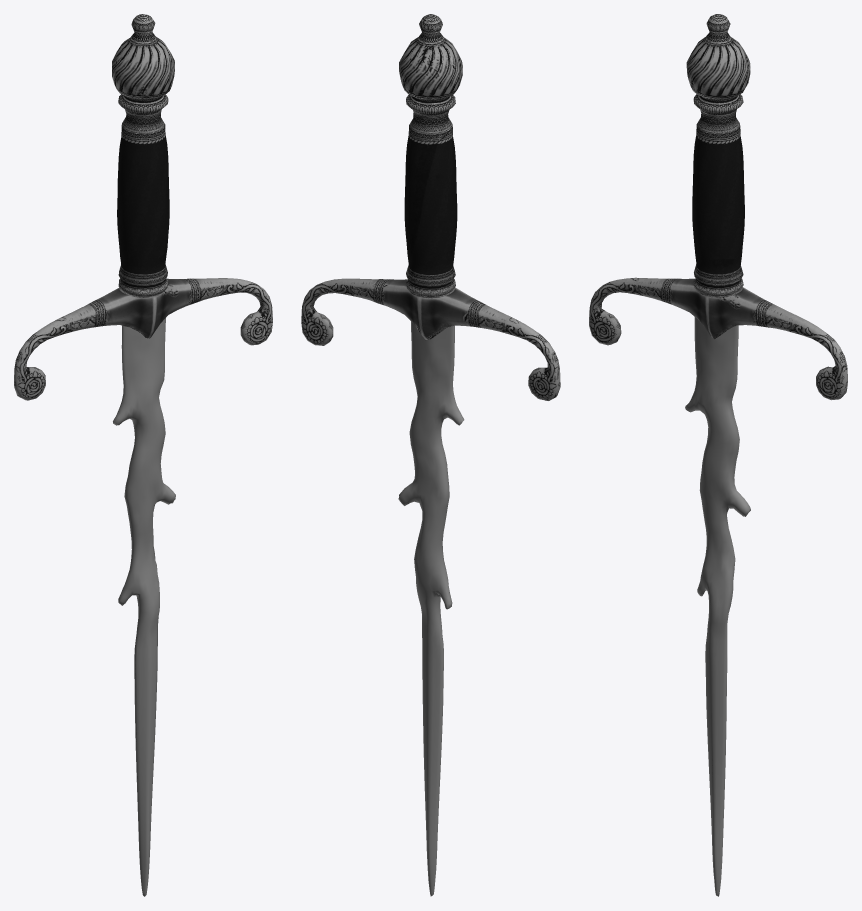
The model's file is dagger.glb.
3 views of the same model, side by side, from view 1: azimuth 30°, elevation 25°; view 2: azimuth 150°, elevation 25°; view 3: azimuth 330°, elevation 25° (orthographic).
Parts seen in each view (by area): view 1: Daga2_low.001; view 2: Daga2_low.001; view 3: Daga2_low.001.
Part boxes in pixels (left/top/right/bottom): Daga2_low.001: left=14, top=14, right=272, bottom=896; Daga2_low.001: left=301, top=14, right=560, bottom=896; Daga2_low.001: left=589, top=14, right=847, bottom=896.
Size of the model in its own units: 14.35 by 46.95 by 3.1.
1 material, 1 textured.
